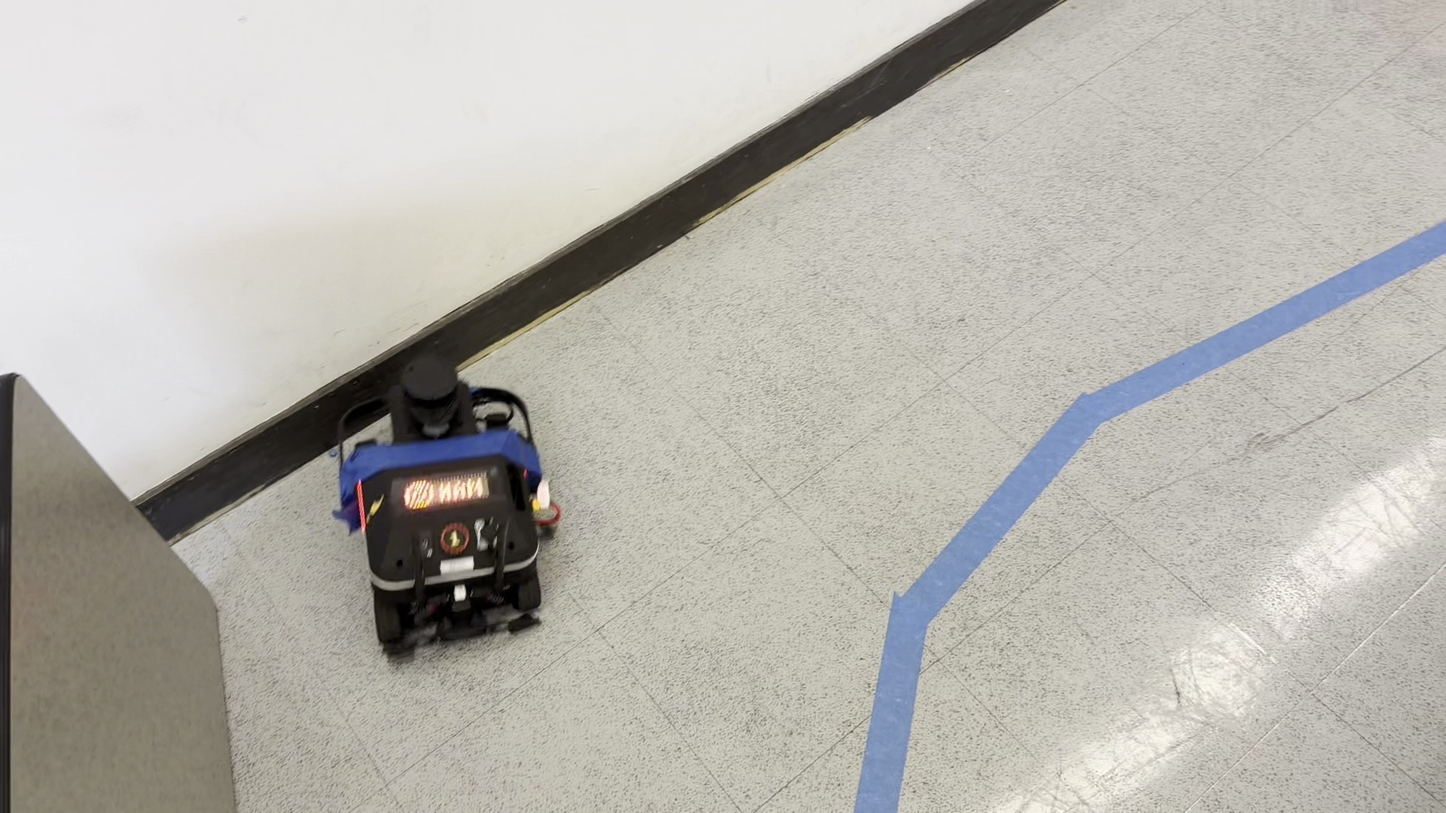racecar: (329, 359, 564, 658)
